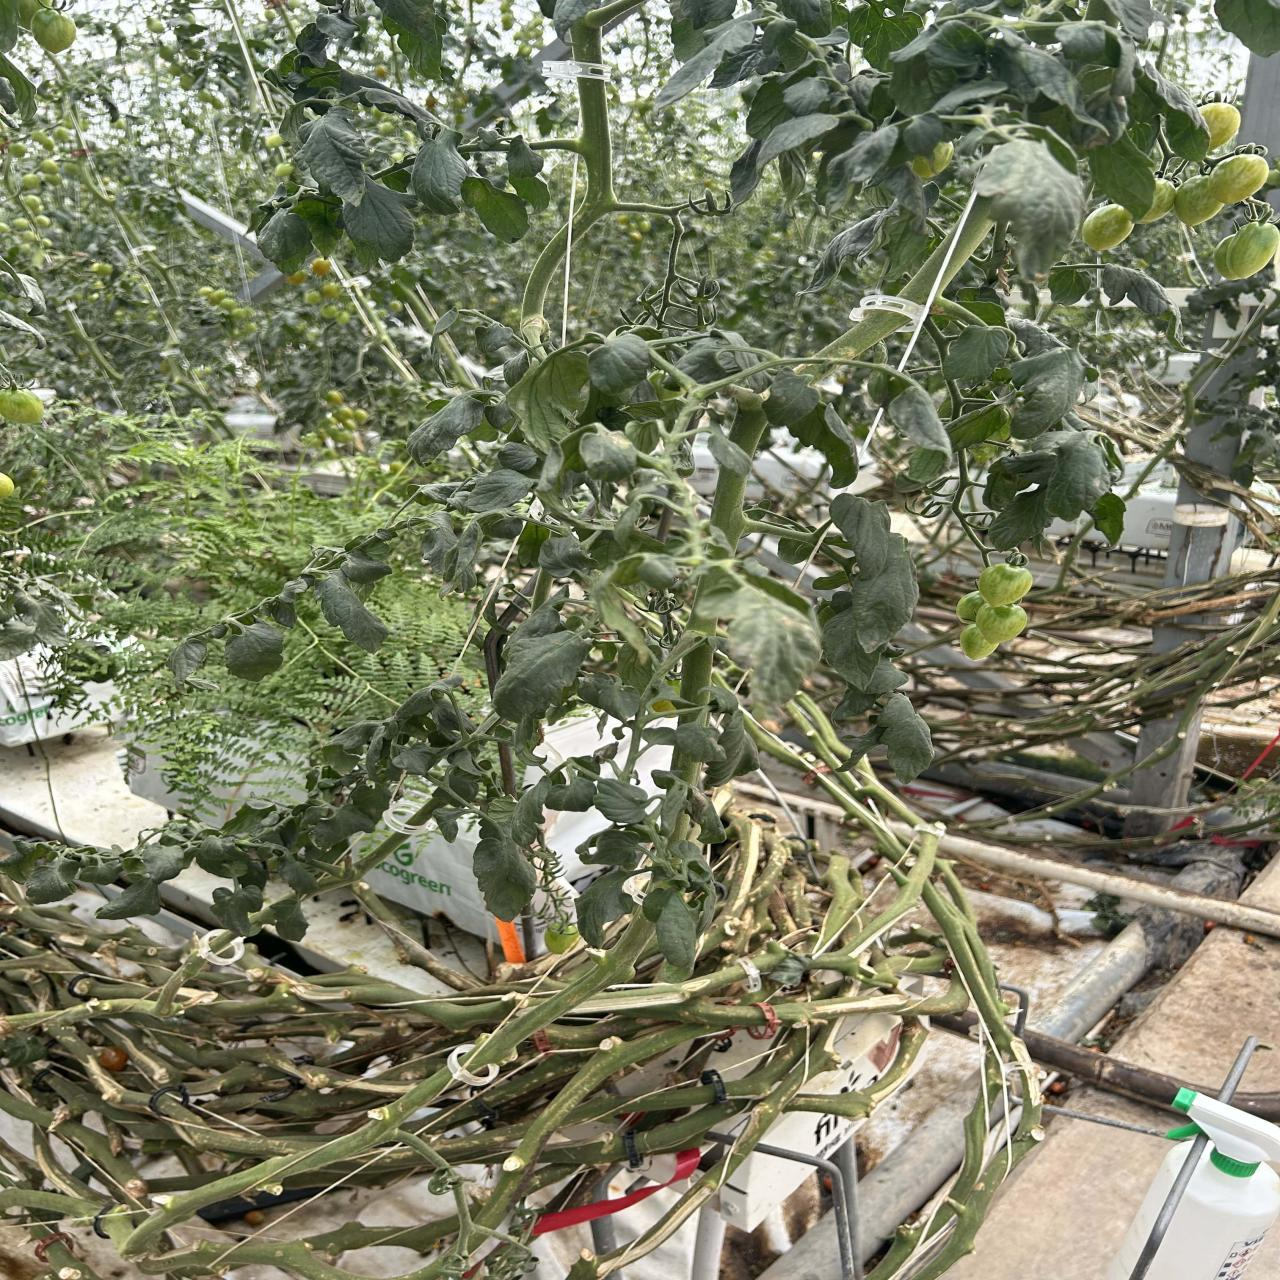Rugose leaf: (692, 561, 819, 703), (973, 139, 1085, 279)
